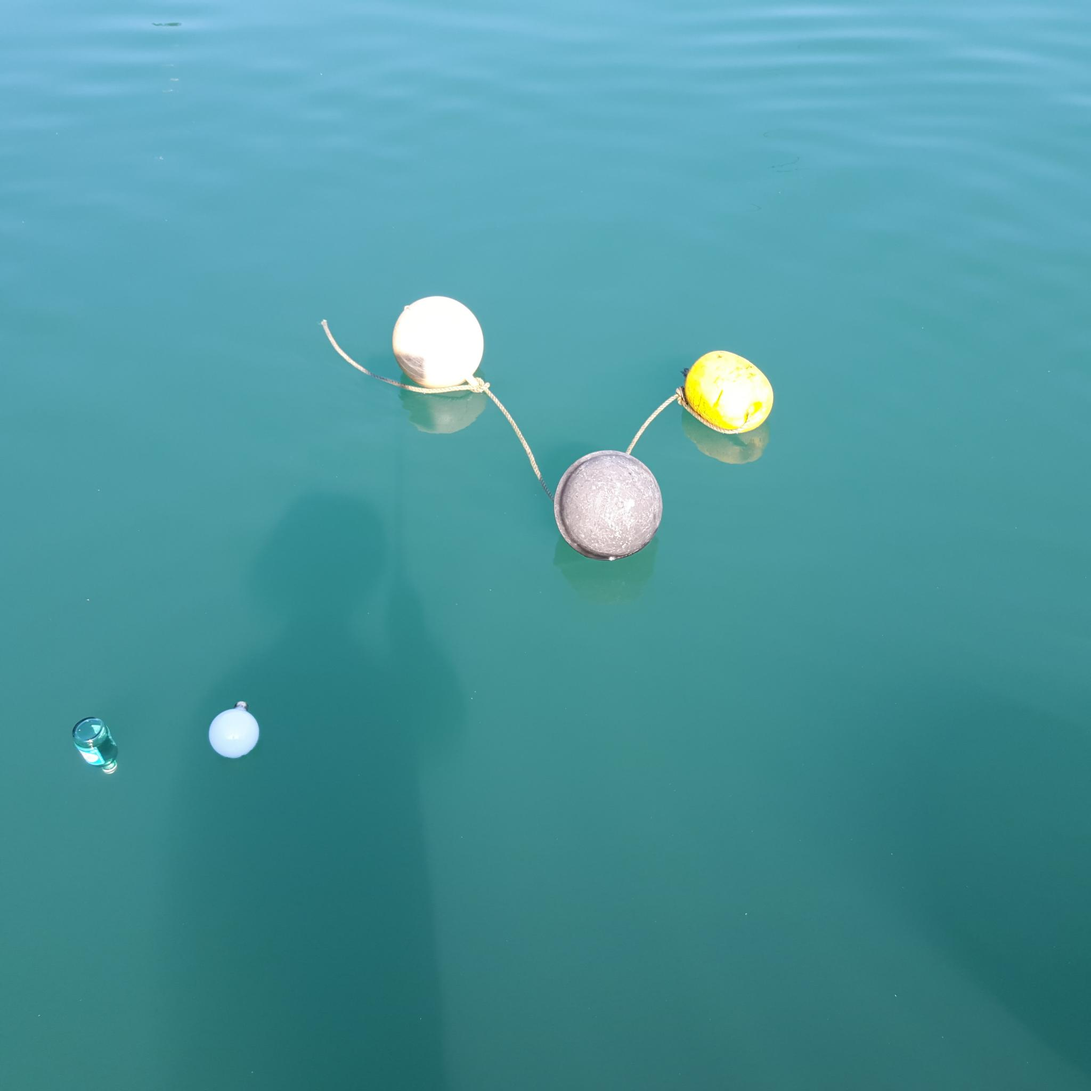sampah_terapung: (321, 319, 555, 501), (553, 451, 663, 560), (393, 296, 484, 389), (685, 350, 774, 434), (626, 387, 685, 455), (209, 702, 261, 759), (72, 718, 119, 775)
